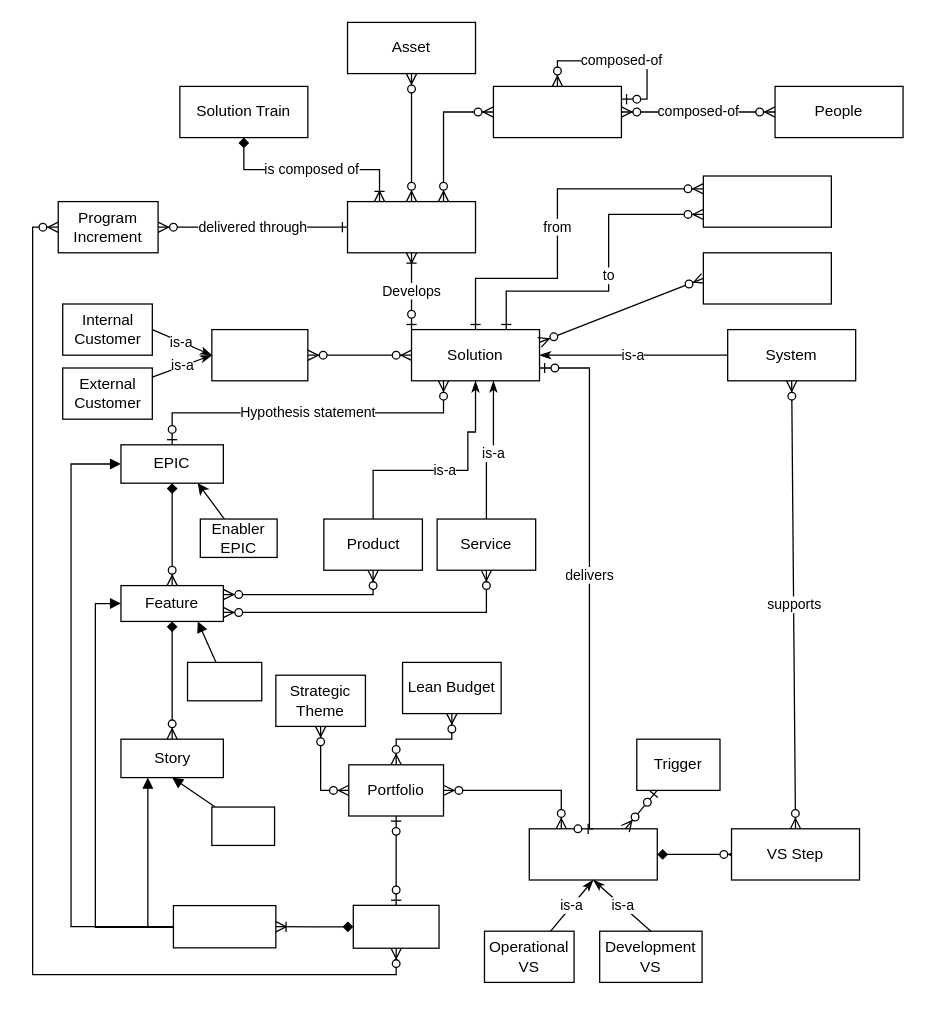
This 925x1009 diagram has some shape labels left out. The box of each missing label's shape, as (x1, y1, x2, y2) in pixels:
Agile Release Train (ART): (346, 200, 476, 253)
Agile Requirement: (172, 904, 276, 948)
Backlog: (352, 904, 439, 948)
Cross-cutting concern: (702, 252, 831, 304)
Customer: (211, 328, 308, 381)
Dependency: (702, 175, 831, 227)
Enabler Feature: (186, 661, 262, 701)
Enabler Story: (211, 806, 275, 845)
Team: (492, 85, 621, 138)
Value Stream: (528, 828, 657, 880)
